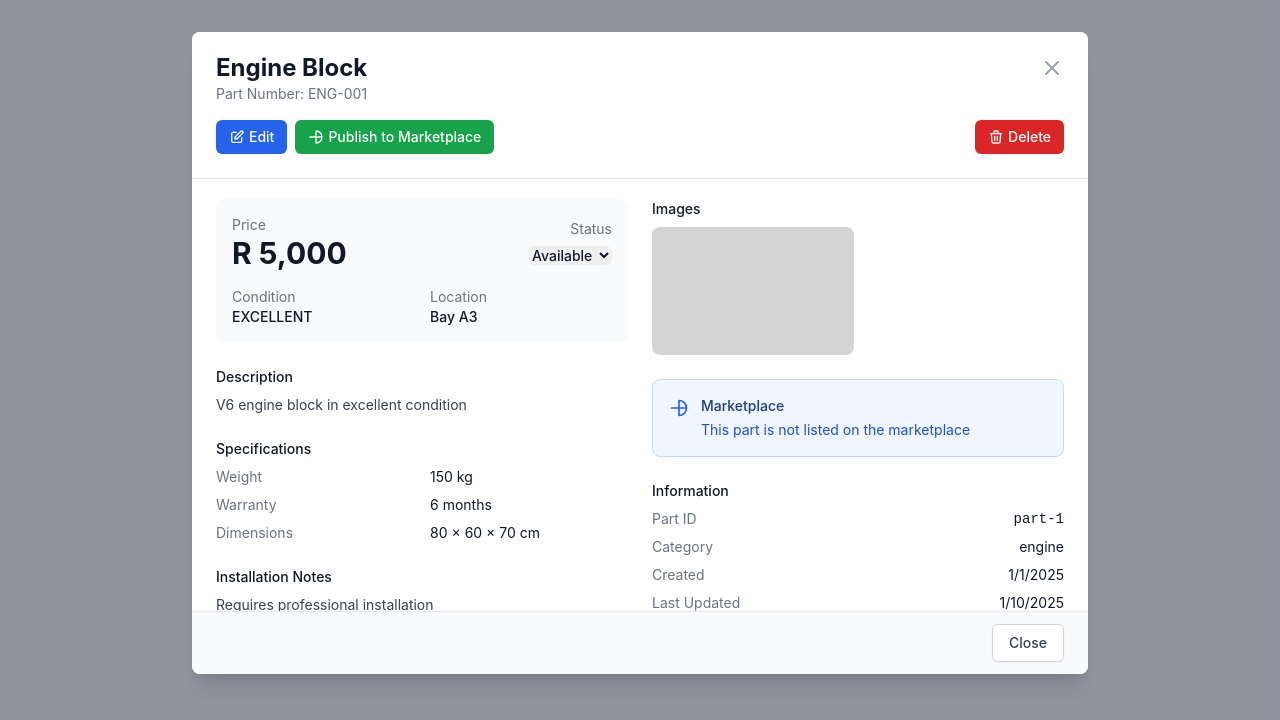
it: PartDetailsModal › Marketplace Toggle › disables marketplace button while updating
Click the button "Publish to Marketplace".
click(395, 137)  # box [295,120,494,154]
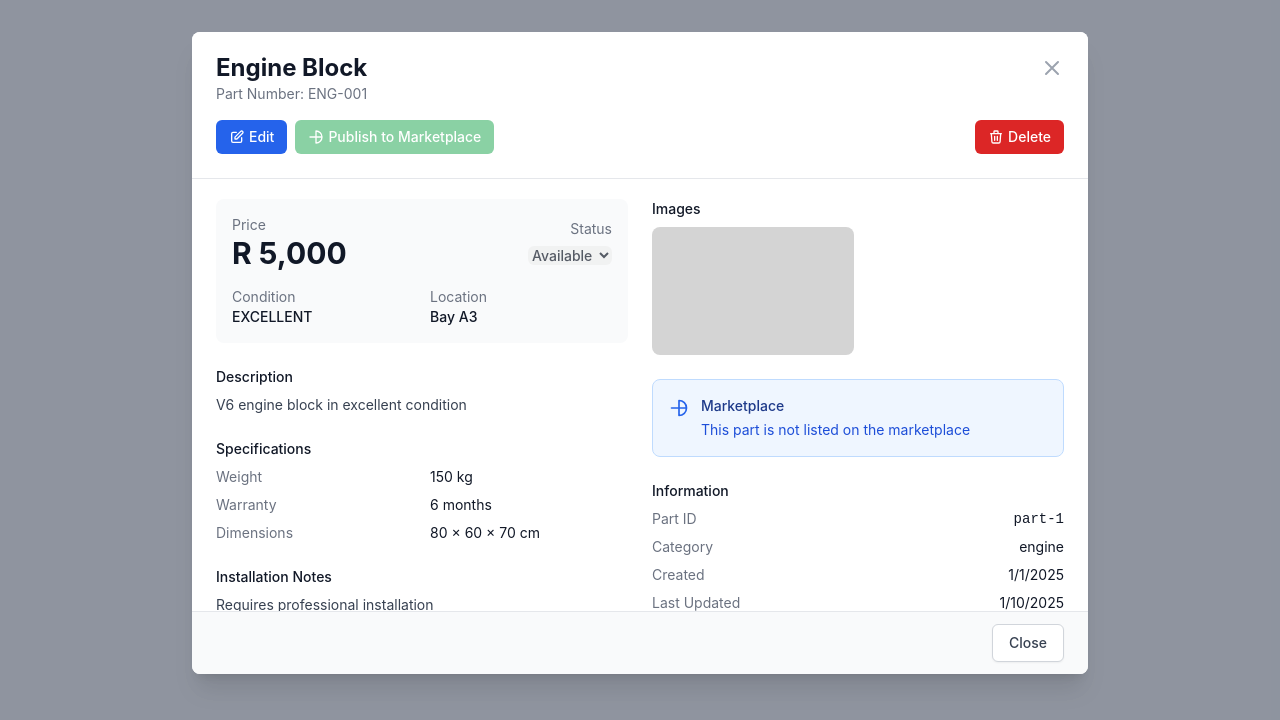
expect the button "Publish to Marketplace" is disabled: met, box [295,120,494,154]
